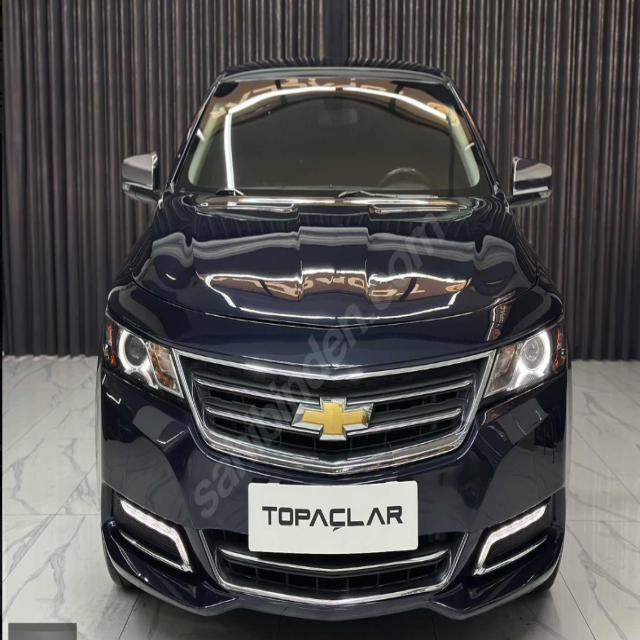chevrolet: (291, 391, 376, 446)
